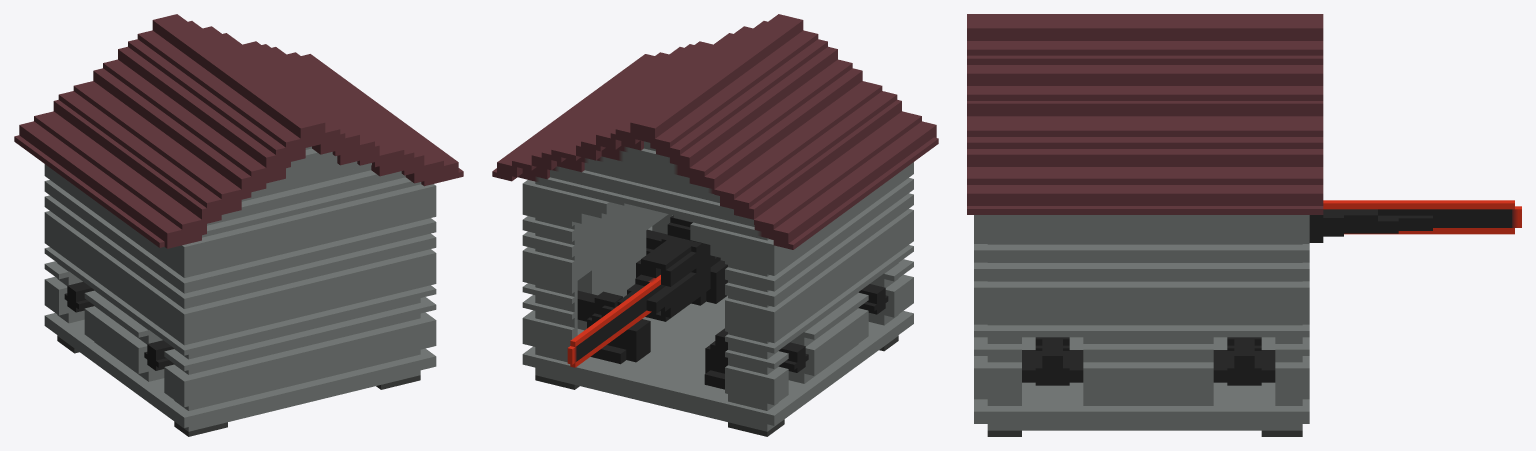
Rendered from Enemy-13-DogHard.fbx.
3 renders of one model, left to right at view 1: azimuth 30°, elevation 25°; view 2: azimuth 150°, elevation 25°; view 3: azimuth 270°, elevation 25°, orthographic. The views are drawn at different scales.
Visible parts, largest first — view 1: DogHard; view 2: DogHard; view 3: DogHard.
Boxes of the visible parts, x1,y1,x2,y2 form: DogHard: (14,14,463,436); DogHard: (492,14,938,436); DogHard: (967,14,1521,436).
Bounding box in the file's own units: 61 × 56 × 81.
Materials: 1 (1 with a texture image).
